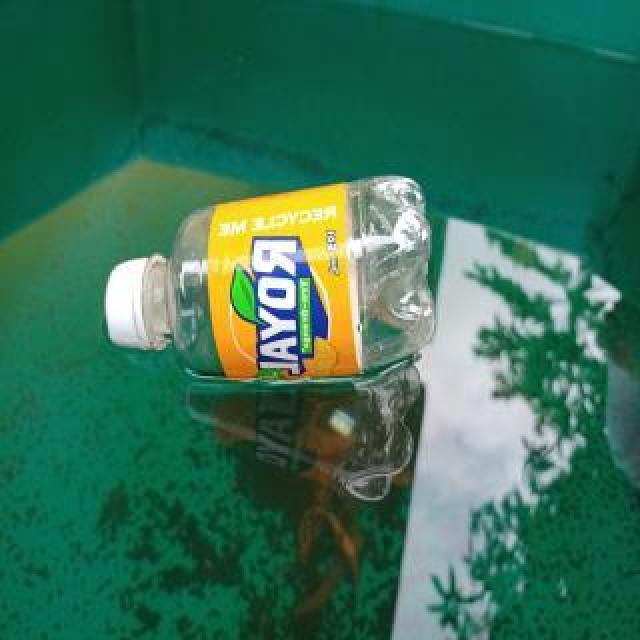Bottle: (92, 165, 446, 392)
